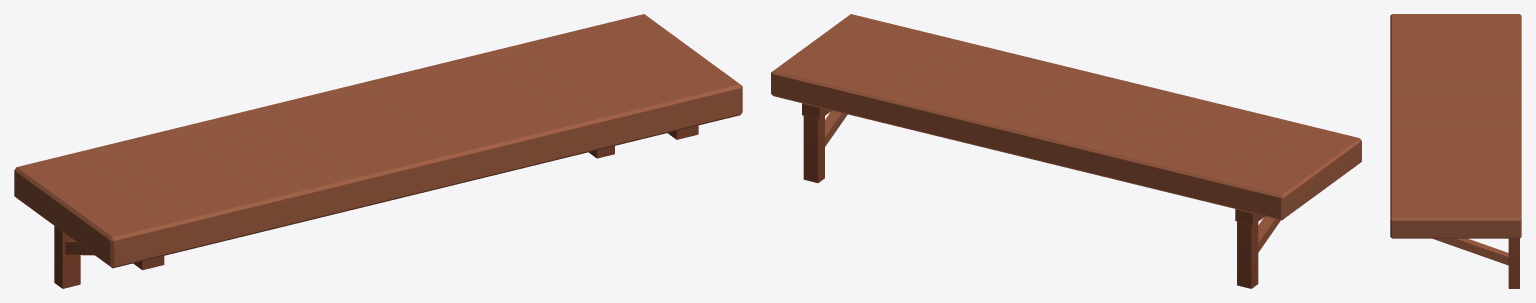
Rendered from WallShelf.glb.
The picture shows the model from 3 angles, left to right: view 1: azimuth 30°, elevation 25°; view 2: azimuth 150°, elevation 25°; view 3: azimuth 270°, elevation 25°; orthographic projection. The views are drawn at different scales.
Visible parts, largest first — view 1: WallShelf; view 2: WallShelf; view 3: WallShelf.
Boxes of the visible parts, x1,y1,x2,y2 form: WallShelf: [14, 14, 742, 288]; WallShelf: [771, 14, 1361, 288]; WallShelf: [1390, 14, 1521, 288].
Size of the model in its own units: 0.85 by 0.1608 by 0.23.
Materials: 1 (1 with a texture image).
